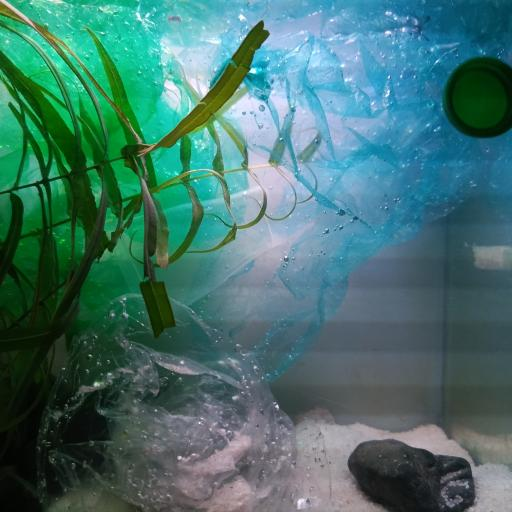bottle_cap: (443, 56, 512, 137)
plastic_bag: (2, 0, 259, 350), (34, 293, 331, 512)
plastic_cup: (156, 0, 506, 380), (102, 187, 286, 312)
